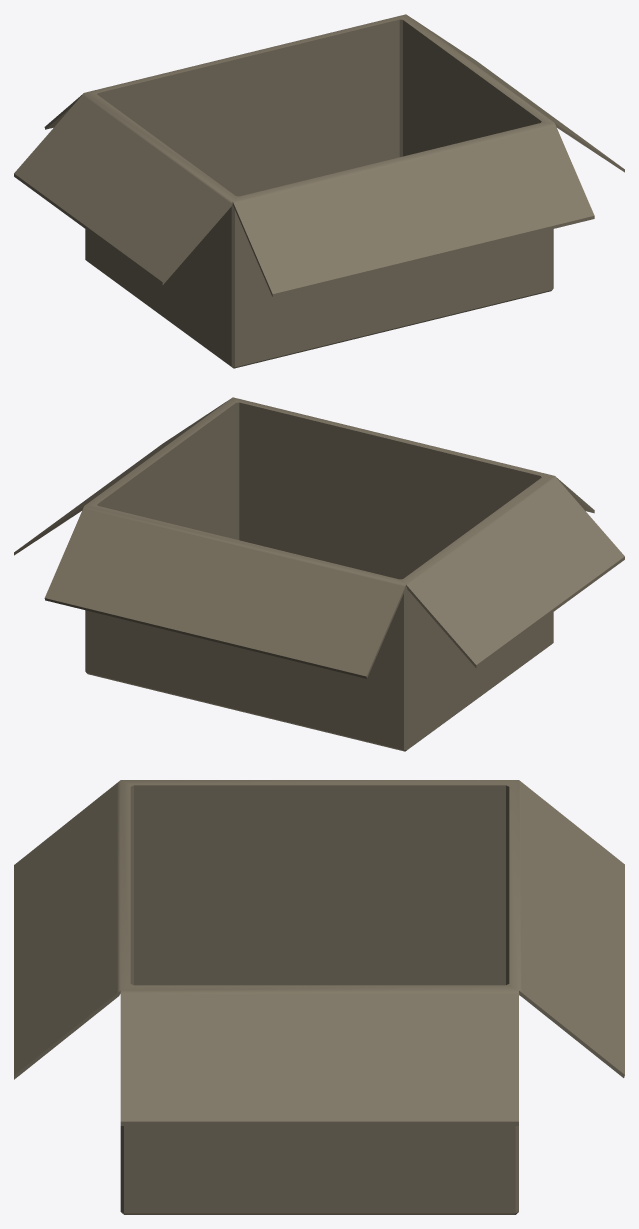
The model's file is mod_cardboardBoxOpen.fbx.
3 renders of one model, top to bottom at view 1: azimuth 30°, elevation 25°; view 2: azimuth 150°, elevation 25°; view 3: azimuth 270°, elevation 25°, orthographic. The views are drawn at different scales.
Visible parts, largest first — view 1: cartonBox; view 2: cartonBox; view 3: cartonBox.
Boxes of the visible parts, box(x1,y1,x2,y2) form: cartonBox: box(14, 14, 624, 368); cartonBox: box(14, 397, 624, 751); cartonBox: box(14, 780, 624, 1214).
Bounding box in the file's own units: 7.18 × 2.5 × 6.13.
